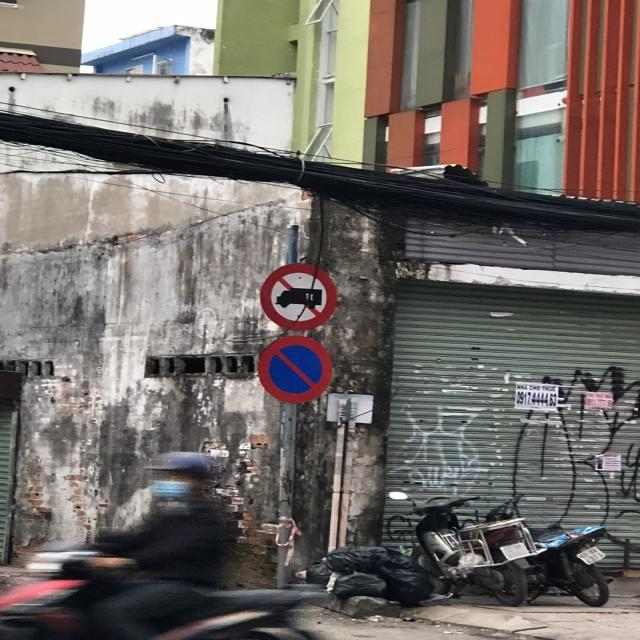Bien bao cam do xe: (252, 330, 338, 406)
Bien bao cam xe oto tai: (261, 259, 341, 331)
